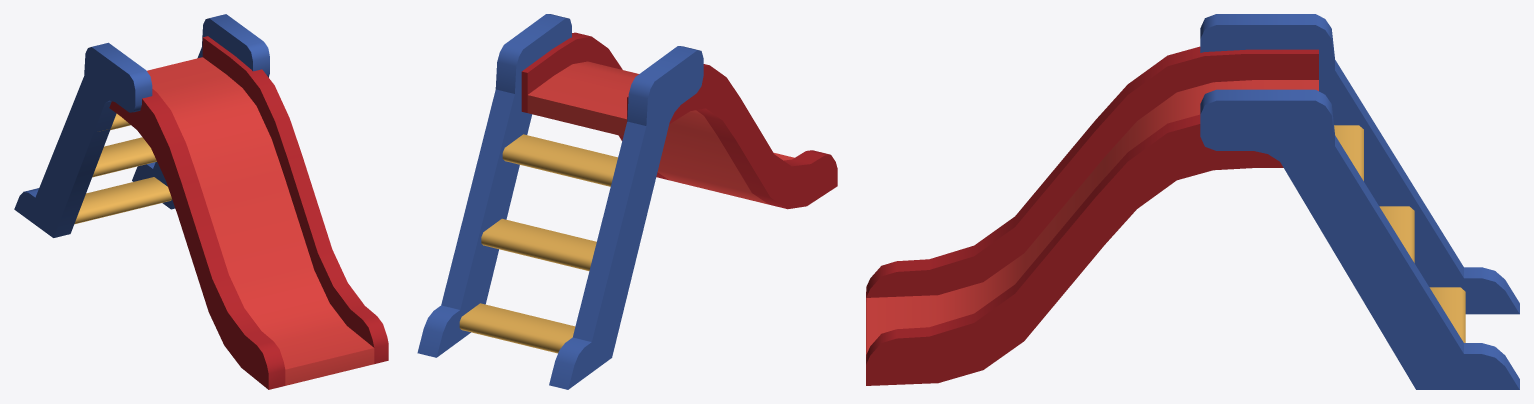
The model's file is Slide_01.fbx.
The picture shows the model from 3 angles, left to right: view 1: azimuth 30°, elevation 25°; view 2: azimuth 150°, elevation 25°; view 3: azimuth 270°, elevation 25°; orthographic projection. The views are drawn at different scales.
Visible parts, largest first — view 1: Slide_01; view 2: Slide_01; view 3: Slide_01.
Boxes of the visible parts, left/top/right/bottom form: Slide_01: left=14, top=14, right=388, bottom=389; Slide_01: left=417, top=14, right=837, bottom=389; Slide_01: left=866, top=14, right=1519, bottom=389.
Bounding box in the file's own units: 0.4264 × 0.665 × 1.36.
